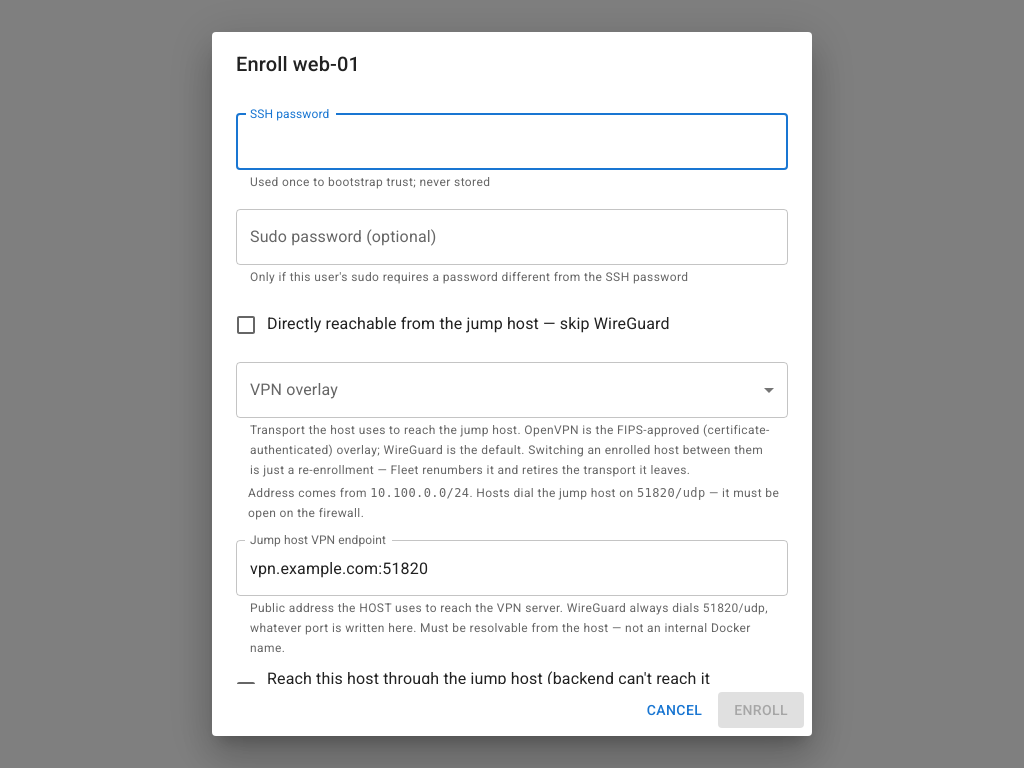
Test: EnrollCredsDialog no-install VPN overlay › says a host will be renumbered when the choice moves it to another overlay
(page scrolled)
Expected: the text "must be open on the firewall" is shown, x1=248 y1=486 x2=779 y2=520
Press the mouse on the dropdown named "VPN overlay" at x=512, y=390, box x1=236 y1=362 x2=788 y2=418
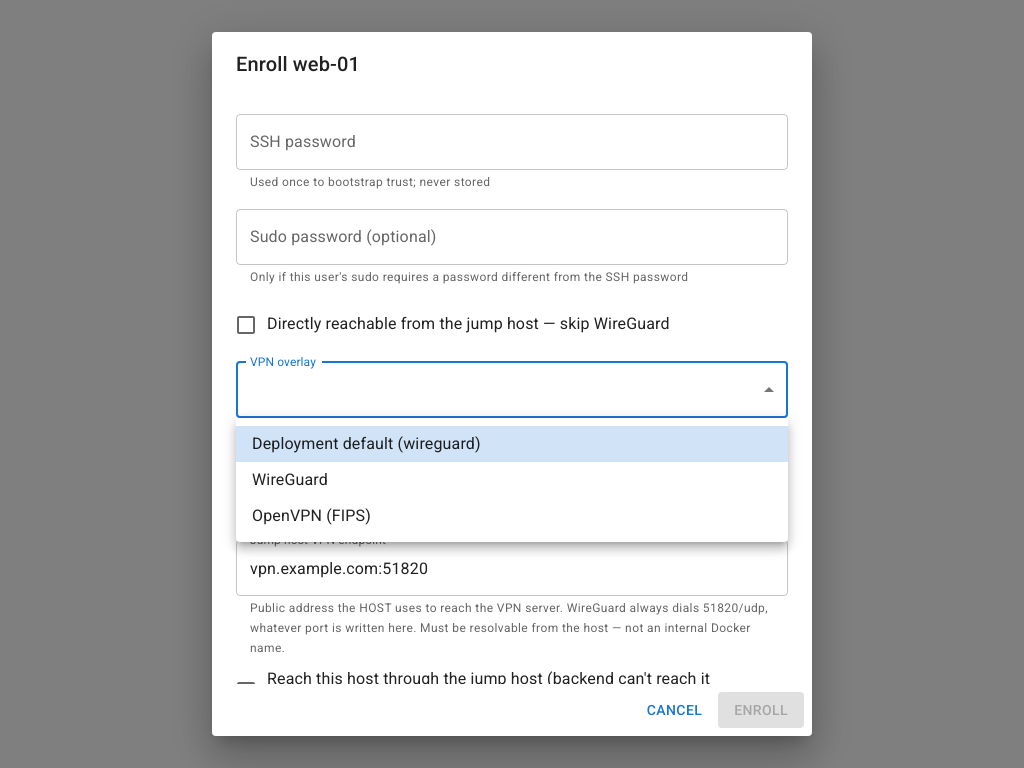
Click the option "OpenVPN (FIPS)".
click(311, 516)  # box x1=252 y1=506 x2=371 y2=525
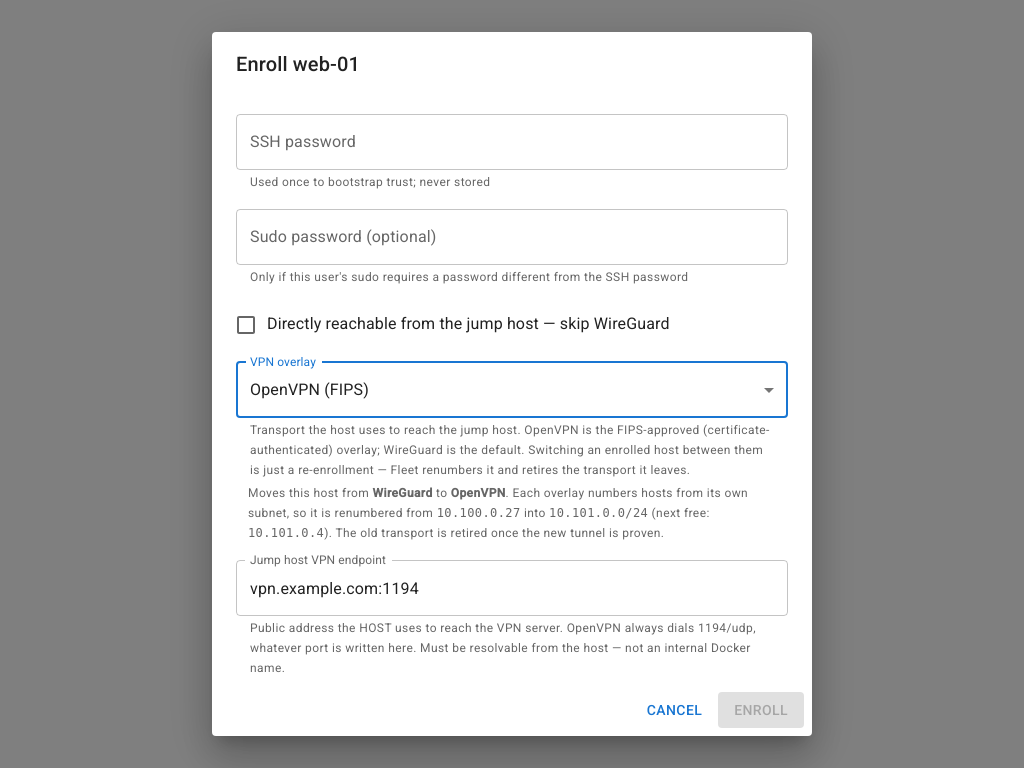
Expected: the text "renumbered" shows "10.100.0.27", x1=437 y1=506 x2=521 y2=520
Expected: the text "renumbered" shows "10.101.0.0/24", x1=549 y1=506 x2=648 y2=520
Expected: the text "renumbered" shows "10.101.0.4", x1=248 y1=526 x2=324 y2=540
